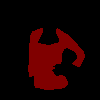maglia: (28, 27, 84, 90)
